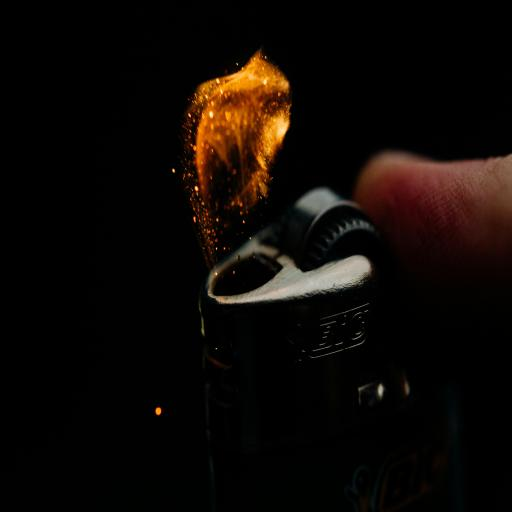lighter: (135, 46, 404, 496)
